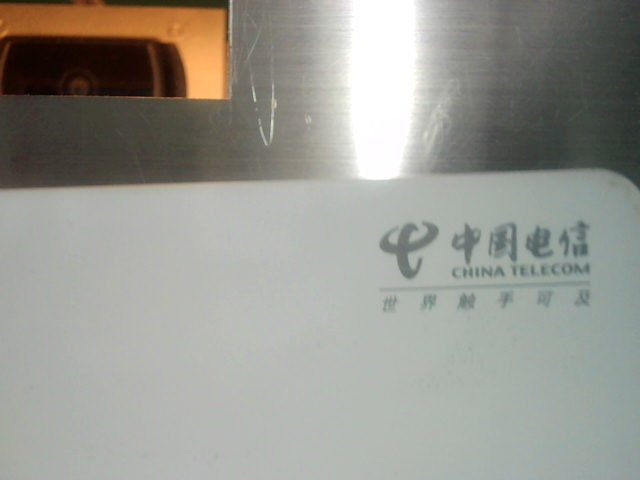AB_ChinaTelecom: (370, 211, 608, 326)
